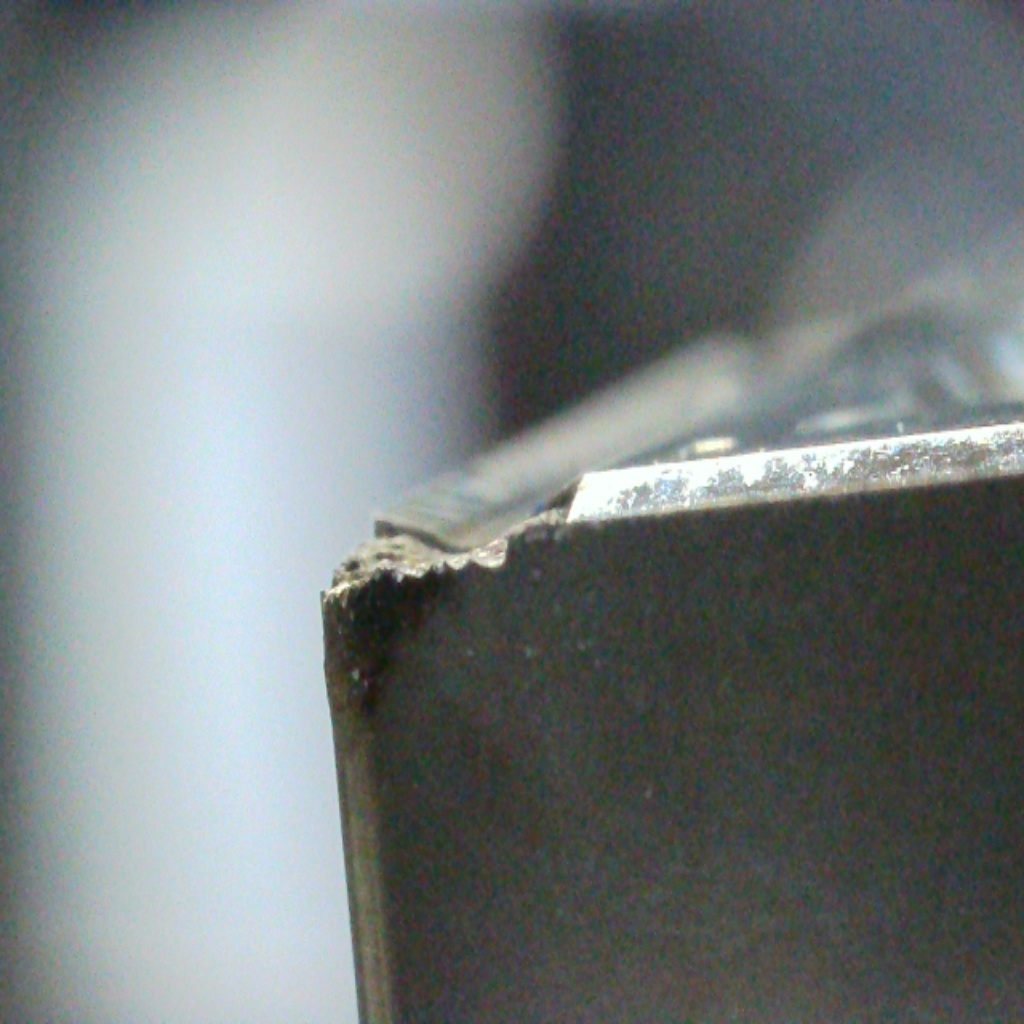flank_wear: (317, 554, 505, 609)
